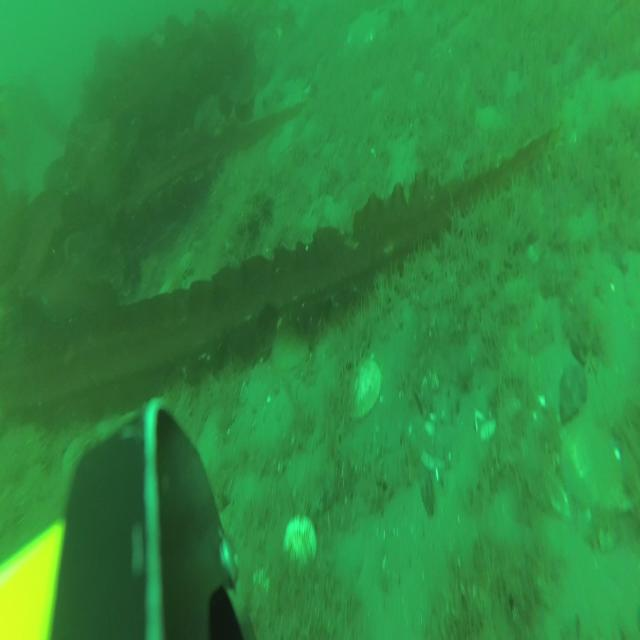scallop: (559, 424, 629, 509), (345, 358, 382, 417), (270, 326, 309, 376), (282, 514, 318, 558)
